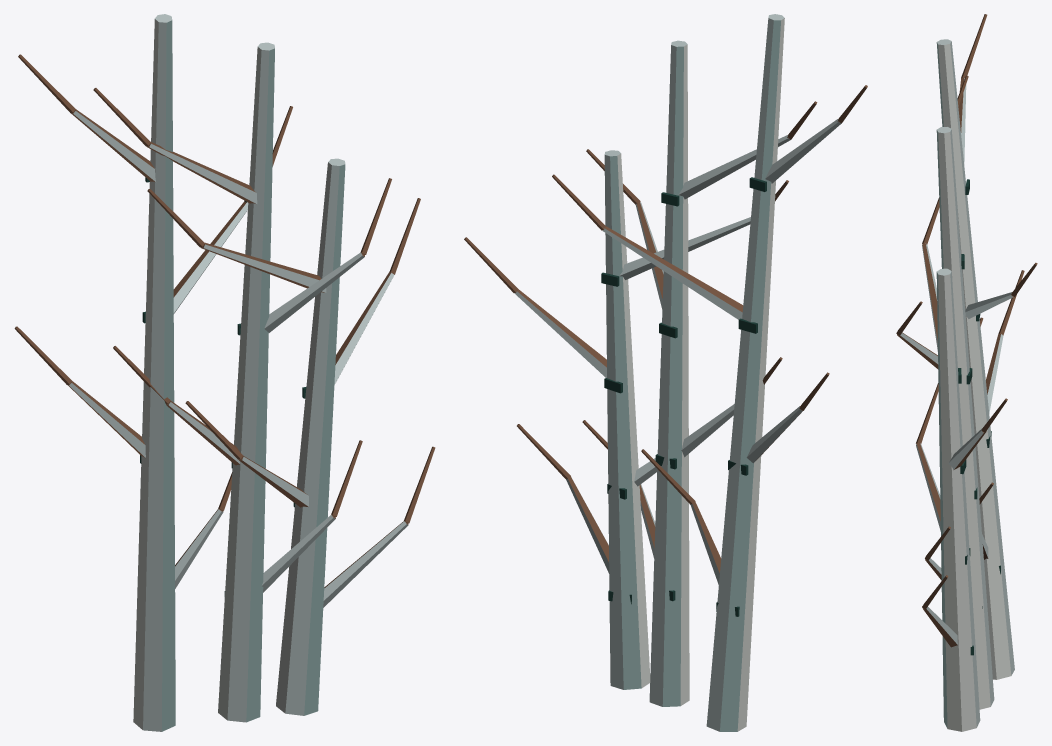
File: birch.glb
3 renders of one model, left to right at view 1: azimuth 30°, elevation 25°; view 2: azimuth 150°, elevation 25°; view 3: azimuth 270°, elevation 25°, orthographic. The views are drawn at different scales.
Parts seen in each view (by area): view 1: birch; view 2: birch; view 3: birch.
Part boxes in pixels (box(x1,y1,x2,y2)): birch: box(14, 14, 435, 731); birch: box(464, 14, 867, 731); birch: box(896, 14, 1037, 731).
Size of the model in its own units: 3.26 by 5.52 by 1.13.
